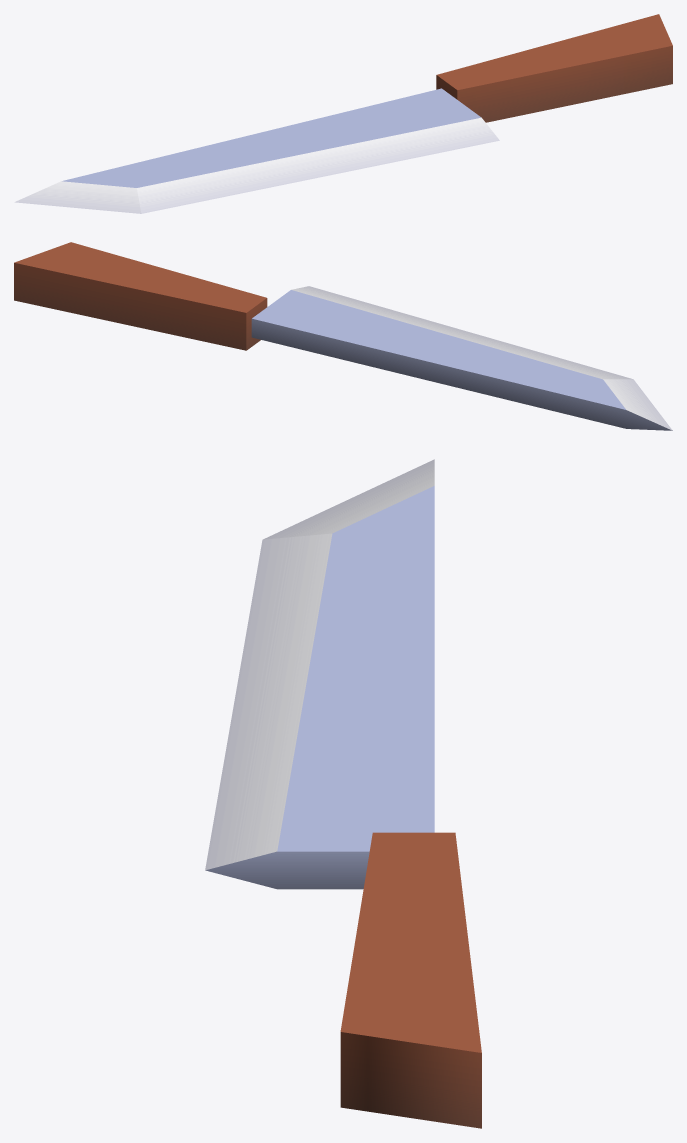
Rendered from cc0-cooking-knife-lod1.glb.
3 renders of one model, top to bottom at view 1: azimuth 30°, elevation 25°; view 2: azimuth 150°, elevation 25°; view 3: azimuth 270°, elevation 25°, orthographic. The views are drawn at different scales.
Parts seen in each view (by area): view 1: part_0; view 2: part_0; view 3: part_0.
Boxes of the visible parts, left/top/right/bottom form: part_0: left=14, top=14, right=672, bottom=213; part_0: left=14, top=242, right=672, bottom=430; part_0: left=205, top=459, right=481, bottom=1128.
Bounding box in the file's own units: 0.7162 × 0.04 × 0.1327.
Materials: 1 (1 with a texture image).
